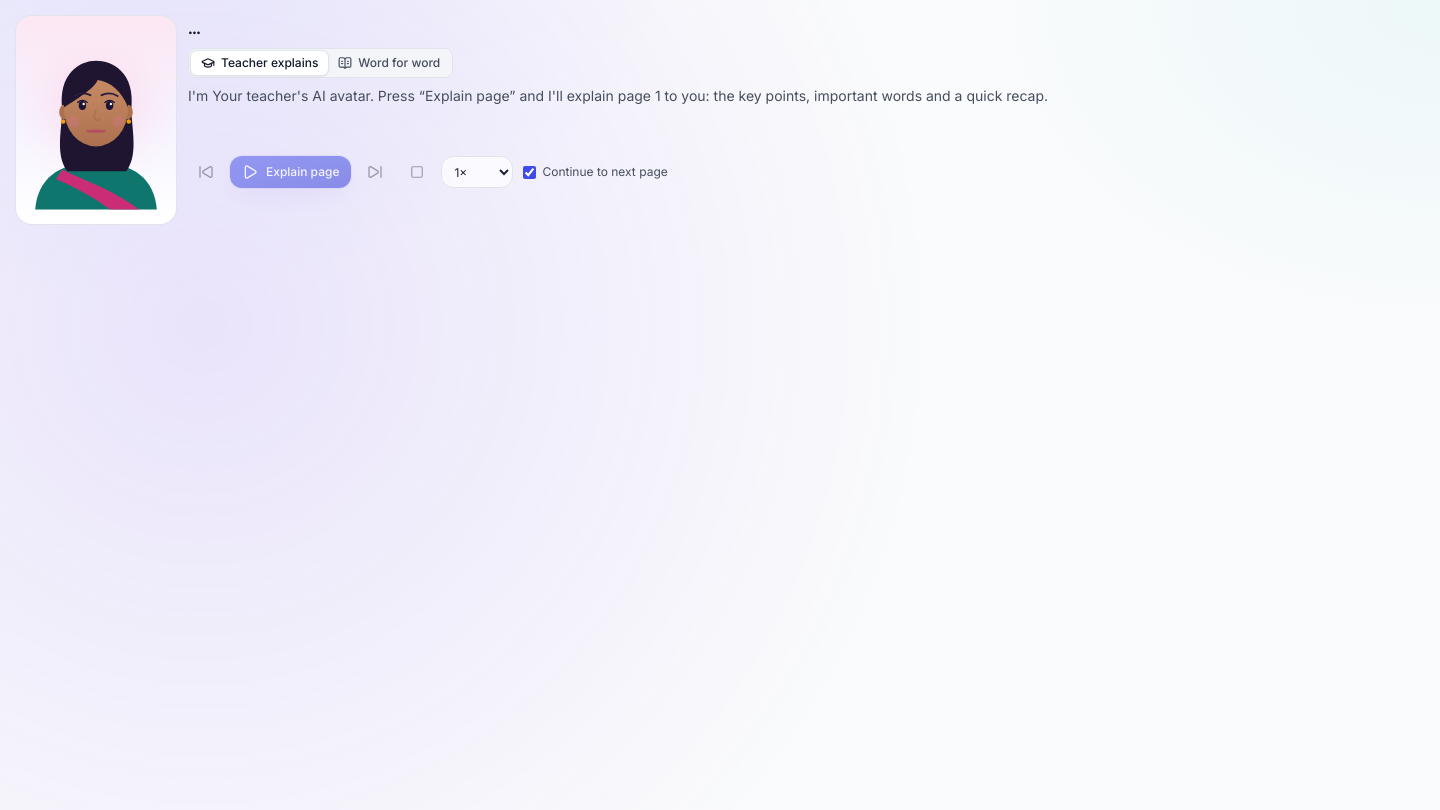
Scenario: AvatarTutor › reads word for word when asked
The width and height of the screenshot is (1440, 810).
Click the button "Word for word": (389, 63) [328,51,450,75]
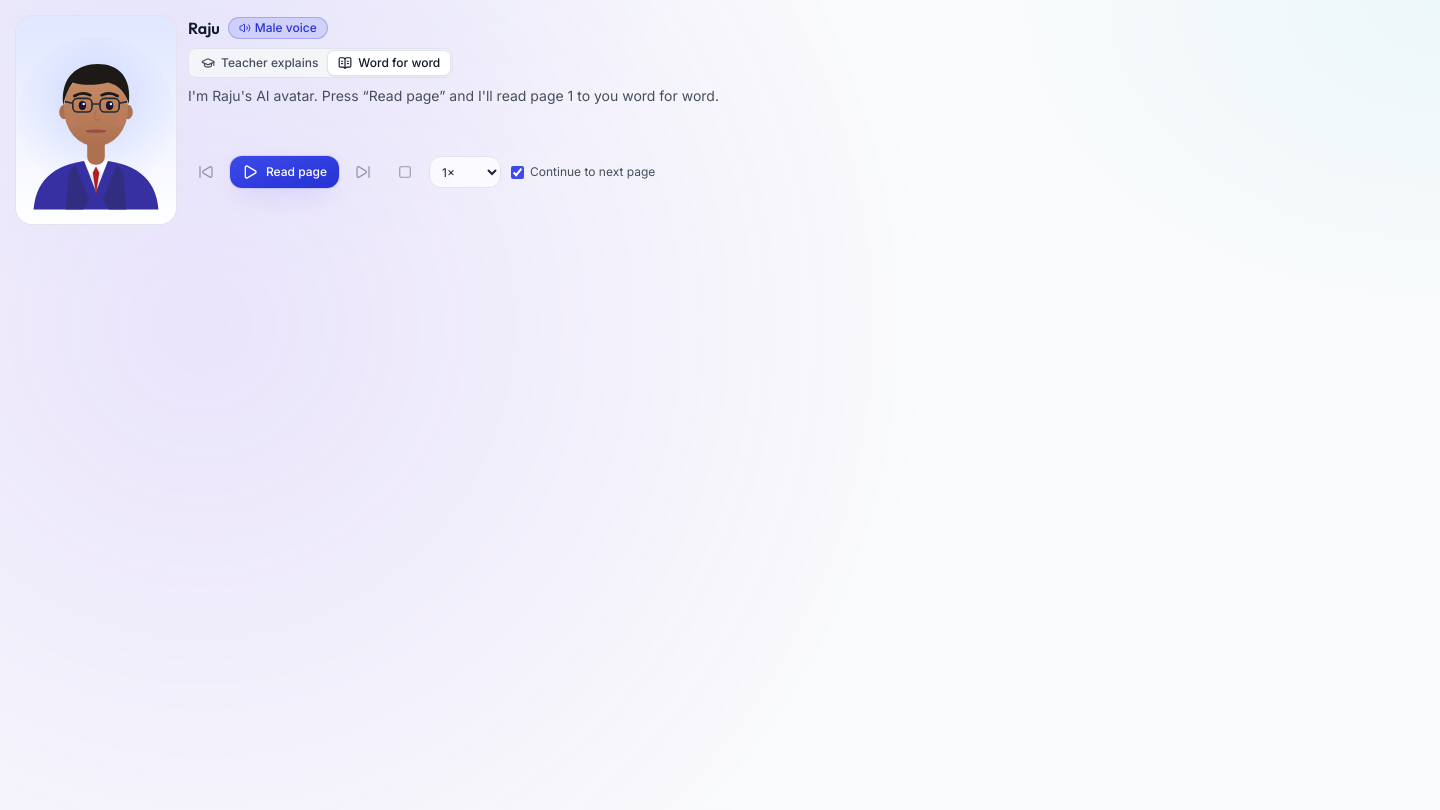
Expected: the button "Word for word" is pressed, [328,51,450,75]
Click the button "Read page": (284, 172) [230,156,339,188]
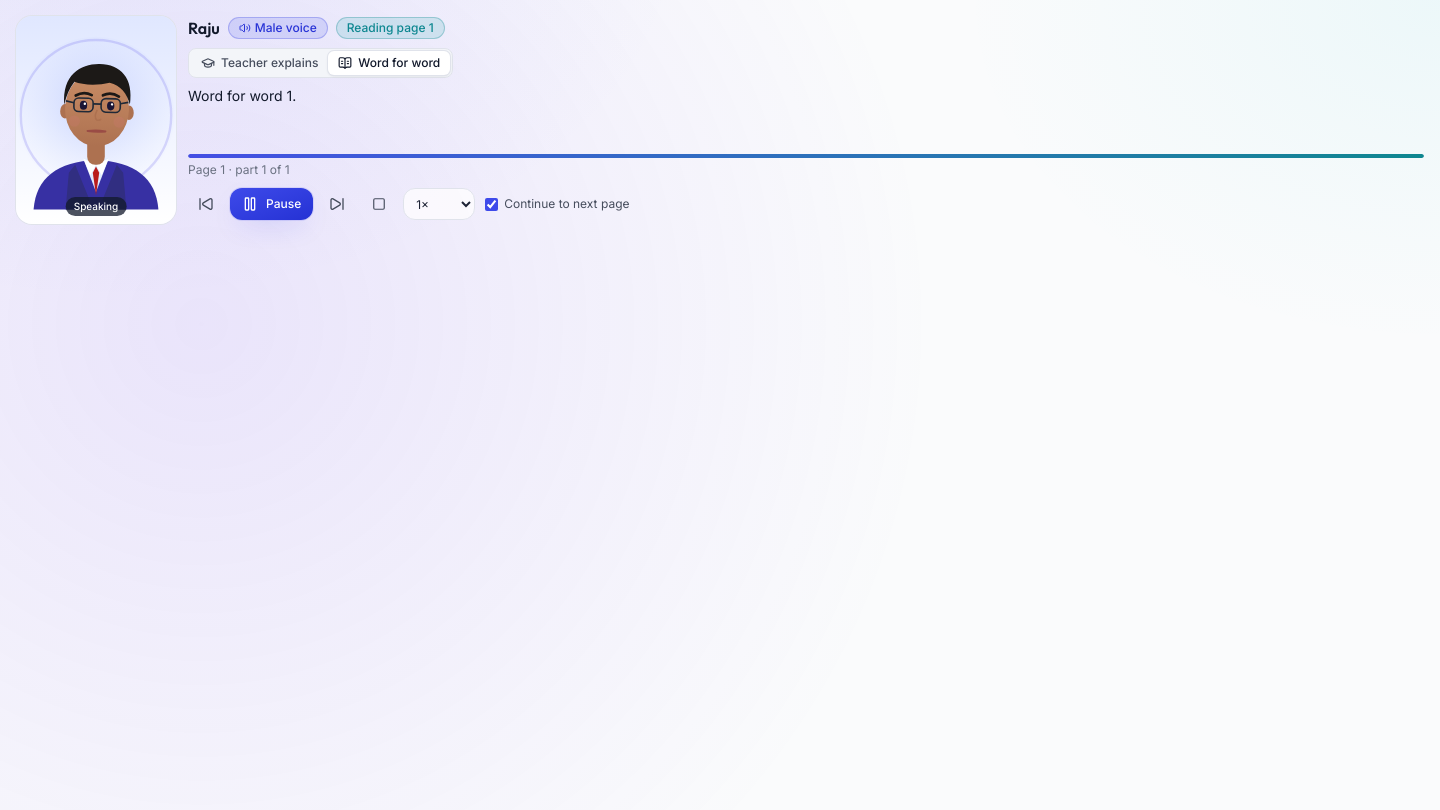
Expected: the text "Word for word 1." is shown, [188,87,296,104]
